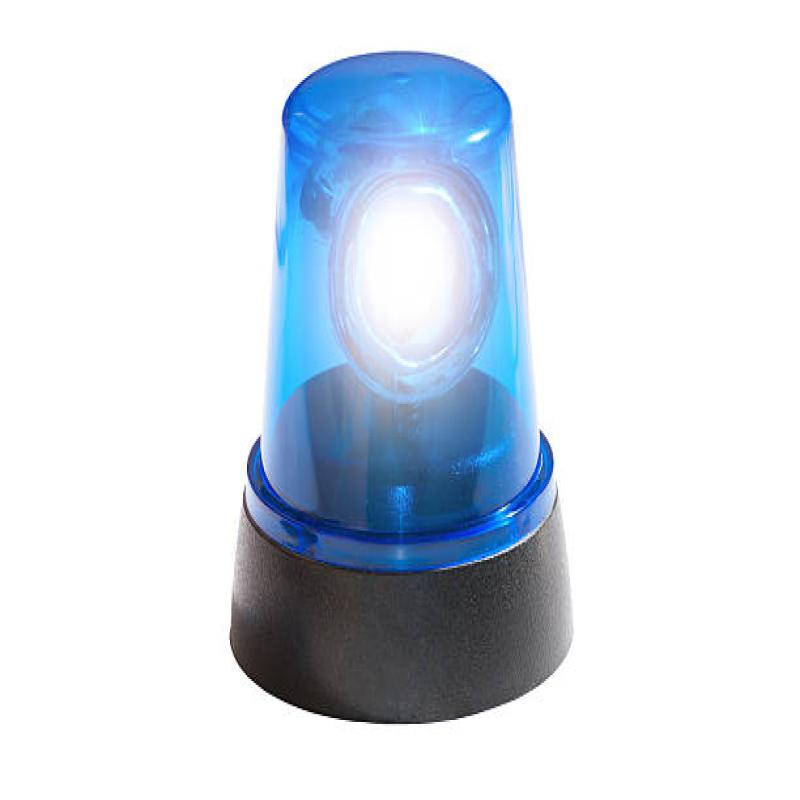AmbulanceSiren: (243, 31, 637, 733)
